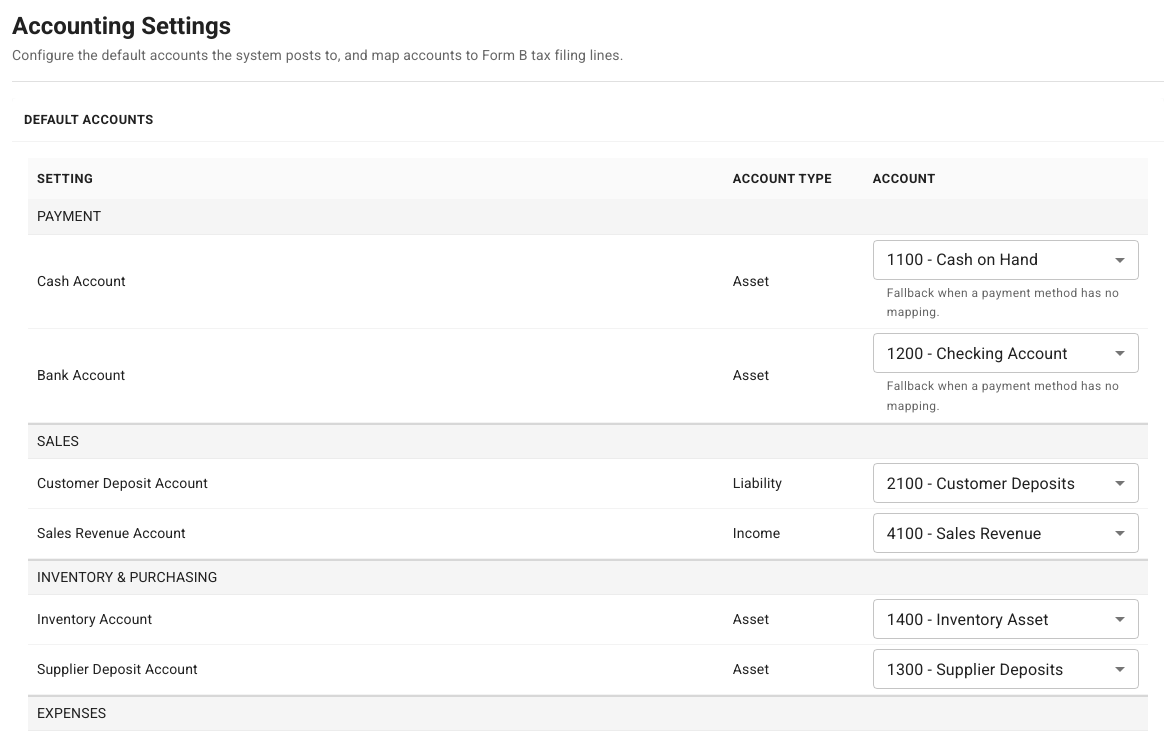
AccountingSettingsPage › Cash and Bank dropdowns list only Asset accounts
Click the dropdown named "Cash Account" at (962,260), box [887,250,1038,269]
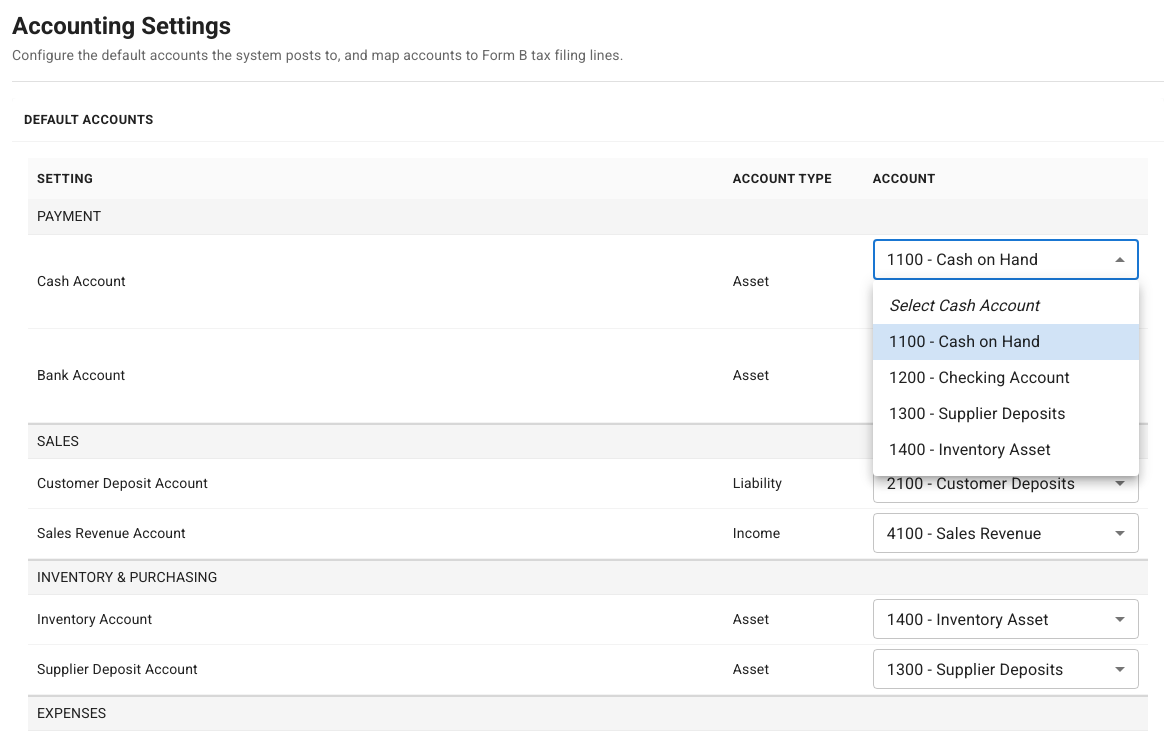
Now the option "1100 - Cash on Hand" is shown, box [873,324,1139,360]
Now the option "1200 - Checking Account" is shown, box [889,368,1070,387]
